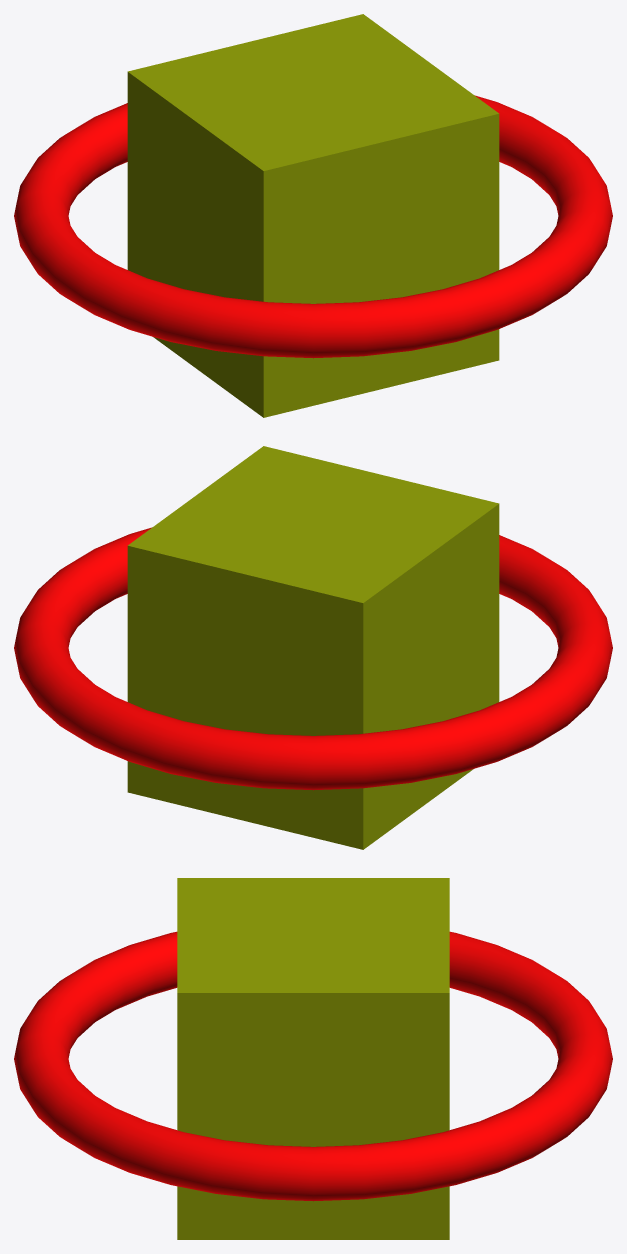
3 views of the same model, one above another, from view 1: azimuth 30°, elevation 25°; view 2: azimuth 150°, elevation 25°; view 3: azimuth 270°, elevation 25° (orthographic).
Parts seen in each view (by area): view 1: Объект_Куб, Объект_Тор; view 2: Объект_Куб, Объект_Тор; view 3: Объект_Куб, Объект_Тор.
Part boxes in pixels (x1,y1,x2,y2): Объект_Куб: [127, 14, 499, 417]; Объект_Тор: [14, 95, 612, 358]; Объект_Куб: [127, 446, 499, 849]; Объект_Тор: [14, 527, 612, 790]; Объект_Куб: [177, 878, 449, 1239]; Объект_Тор: [14, 931, 612, 1201].
Size of the model in its own units: 1.1 by 0.5 by 1.1.
